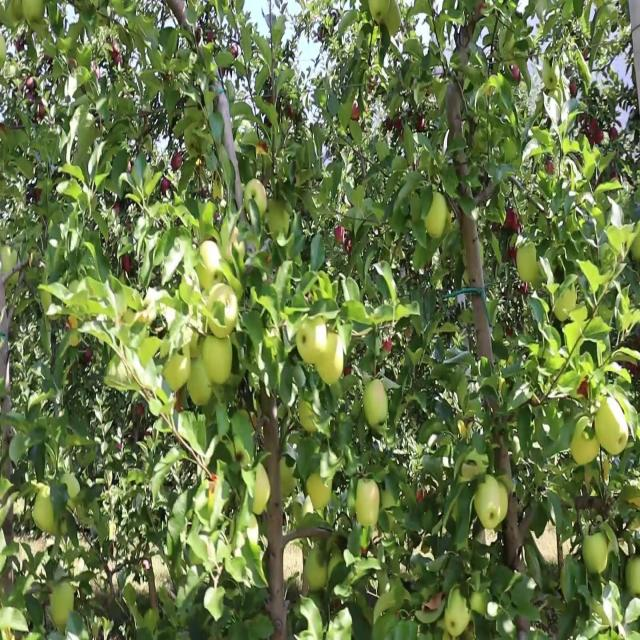apple: (196, 234, 228, 318), (308, 319, 345, 384), (304, 319, 340, 377), (596, 398, 630, 457), (476, 476, 509, 532), (208, 284, 240, 340), (196, 241, 227, 297), (204, 334, 234, 386), (572, 419, 600, 469), (356, 476, 381, 530), (424, 191, 451, 240), (316, 341, 344, 388), (364, 383, 389, 432), (164, 348, 192, 391), (188, 362, 213, 407), (584, 533, 609, 578), (308, 469, 332, 512), (252, 469, 272, 519), (36, 490, 58, 535), (444, 590, 460, 639), (300, 398, 320, 436), (308, 558, 329, 594), (280, 462, 298, 500), (252, 184, 268, 219), (628, 554, 640, 599), (232, 227, 245, 268), (444, 606, 460, 639), (472, 590, 488, 619), (504, 206, 521, 233), (300, 334, 313, 368), (188, 327, 201, 361), (576, 376, 592, 402), (388, 7, 401, 36), (632, 227, 640, 265), (592, 127, 604, 146), (172, 7, 187, 21), (512, 63, 521, 85), (172, 156, 184, 171), (508, 248, 519, 263), (588, 120, 599, 135), (572, 78, 579, 100), (125, 255, 132, 276), (68, 319, 79, 332), (336, 227, 345, 242), (84, 348, 92, 364), (352, 106, 360, 121), (548, 163, 556, 178), (384, 341, 392, 356), (164, 177, 171, 194), (420, 113, 425, 135), (36, 191, 43, 204)
